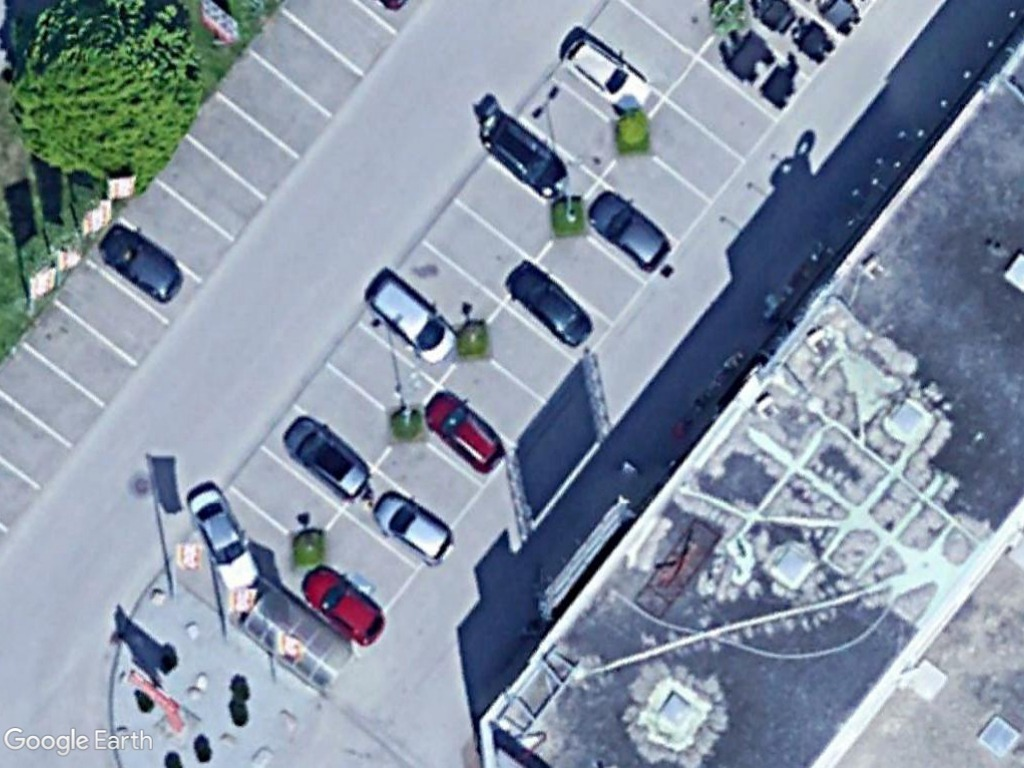car: (296, 561, 389, 650), (184, 484, 260, 592), (584, 187, 674, 272), (280, 416, 372, 499), (96, 223, 186, 307), (561, 37, 654, 117), (484, 115, 570, 201), (507, 263, 594, 347), (423, 389, 505, 474), (371, 487, 456, 566)
van: (364, 273, 457, 367)
